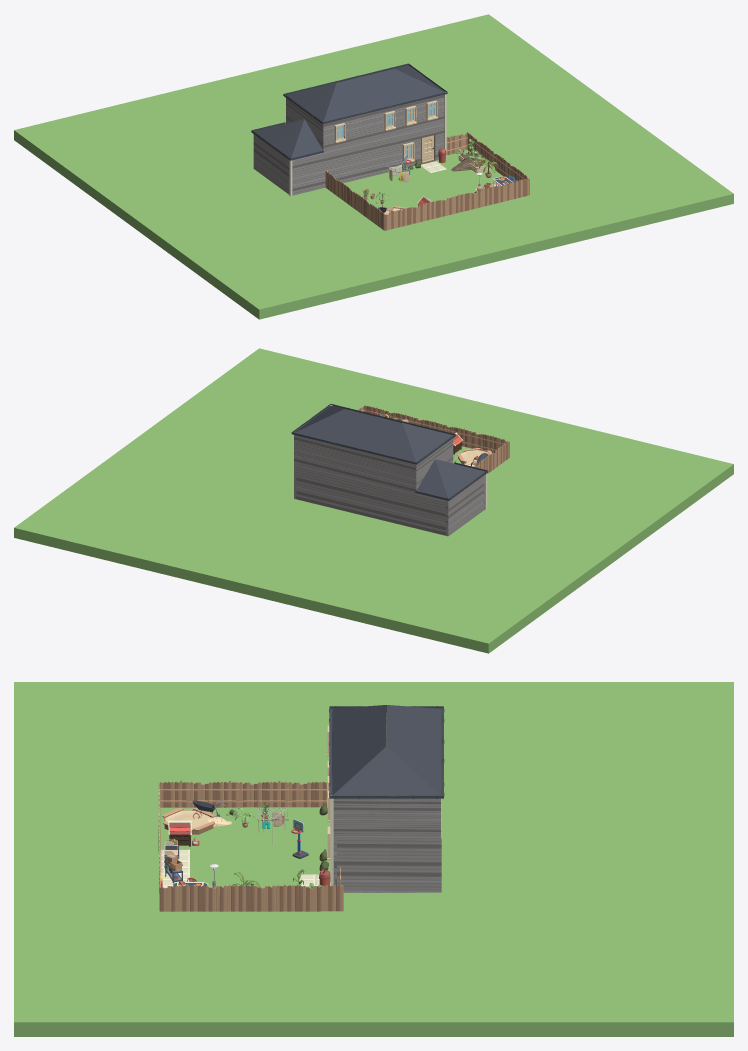
File: changj_01.fbx
The picture shows the model from 3 angles, top to bottom: view 1: azimuth 30°, elevation 25°; view 2: azimuth 150°, elevation 25°; view 3: azimuth 270°, elevation 25°; orthographic projection. The views are drawn at different scales.
Visible parts, largest first — view 1: wuyan_3; view 2: wuyan_3; view 3: wuyan_3.
Boxes of the visible parts, x1=… form: wuyan_3: x1=14, y1=14, x2=733, y2=319; wuyan_3: x1=14, y1=348, x2=733, y2=653; wuyan_3: x1=14, y1=682, x2=733, y2=1036.
Size of the model in its own units: 4.9 by 0.9299 by 4.38.
